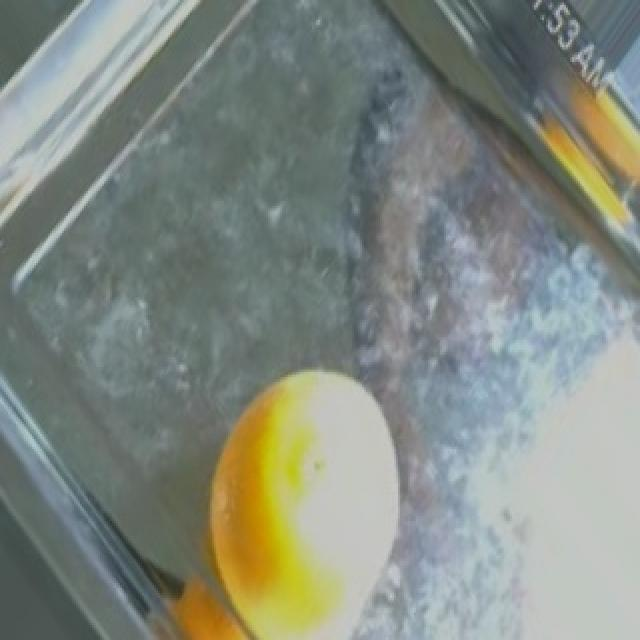Fruit: (198, 347, 428, 640)
